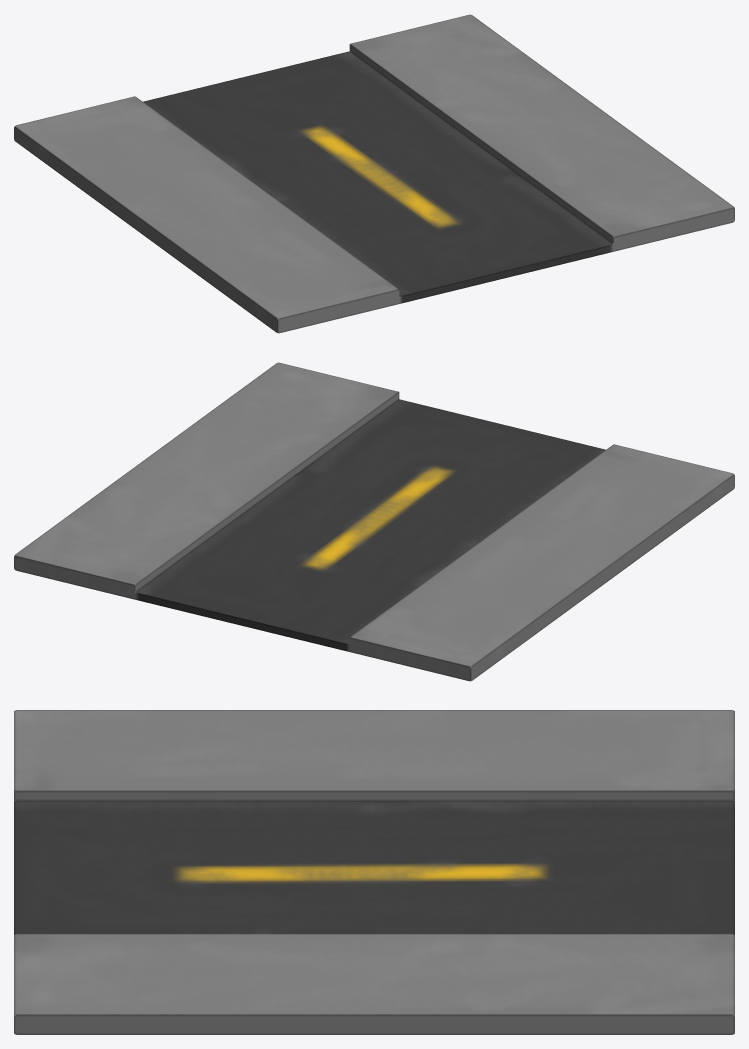
The model's file is Street_walkway.fbx.
3 renders of one model, top to bottom at view 1: azimuth 30°, elevation 25°; view 2: azimuth 150°, elevation 25°; view 3: azimuth 270°, elevation 25°, orthographic. The views are drawn at different scales.
Parts seen in each view (by area): view 1: cuboid; view 2: cuboid; view 3: cuboid.
Part boxes in pixels (left/top/right/bottom): cuboid: left=14, top=14, right=734, bottom=333; cuboid: left=14, top=362, right=734, bottom=681; cuboid: left=14, top=710, right=734, bottom=1034.
Bounding box in the file's own units: 812 × 25 × 812.
Materials: 1 (1 with a texture image).
